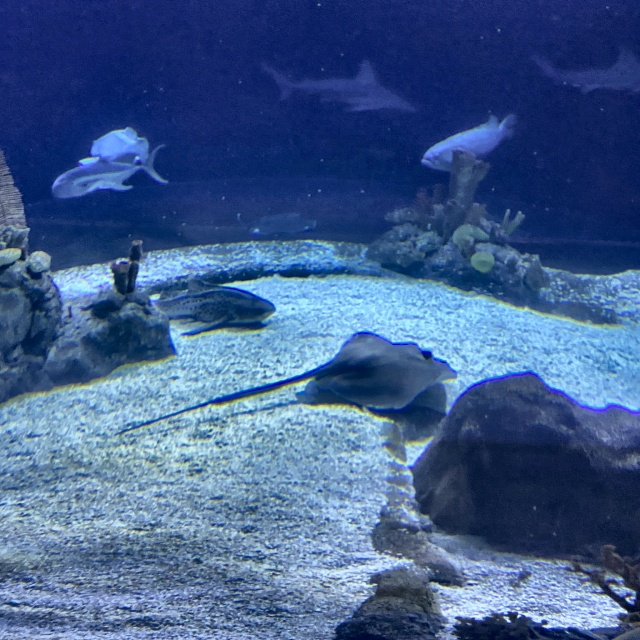fish: (141, 283, 277, 327), (422, 118, 520, 168), (43, 160, 172, 194), (81, 129, 159, 162)
shark: (279, 68, 414, 113)
stingray: (310, 330, 457, 408)
